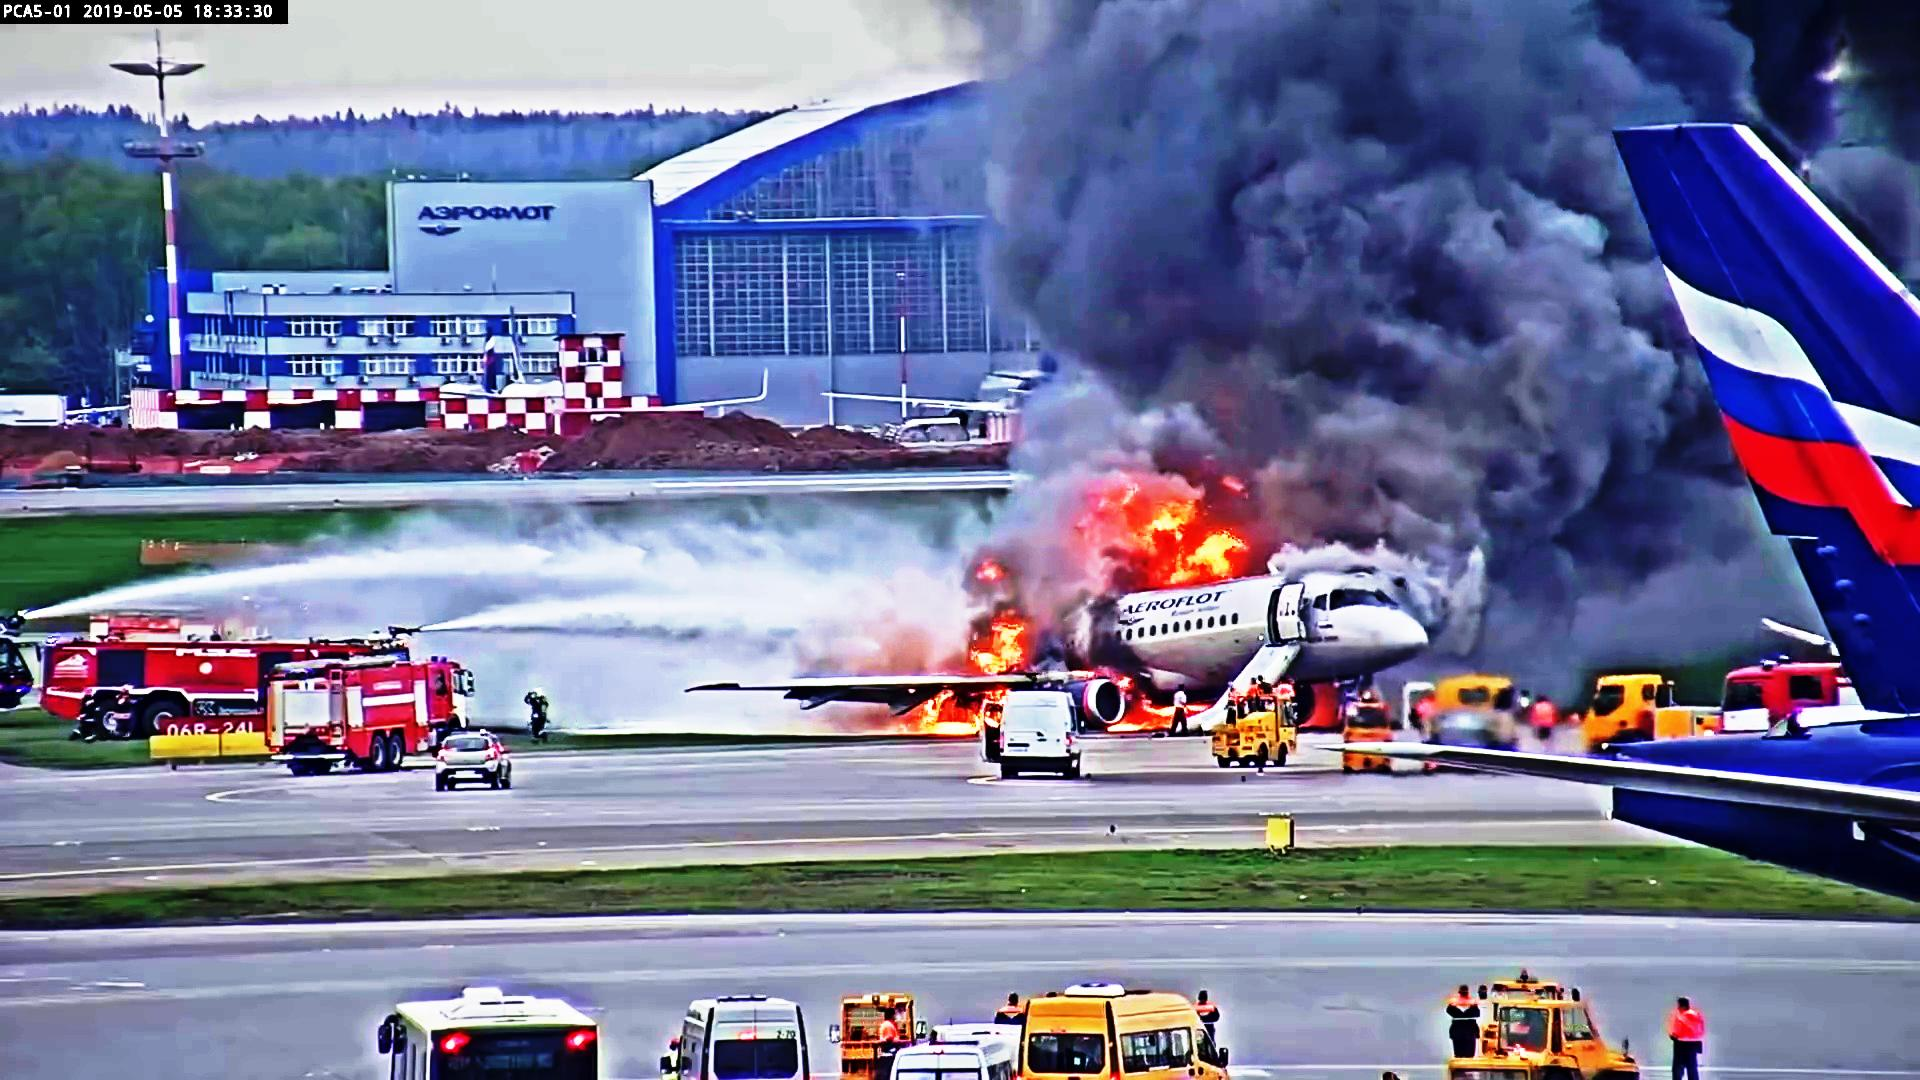fire: (1110, 483, 1241, 608), (973, 593, 1017, 666)
smoke: (1222, 0, 1621, 535), (1035, 13, 1627, 356)
